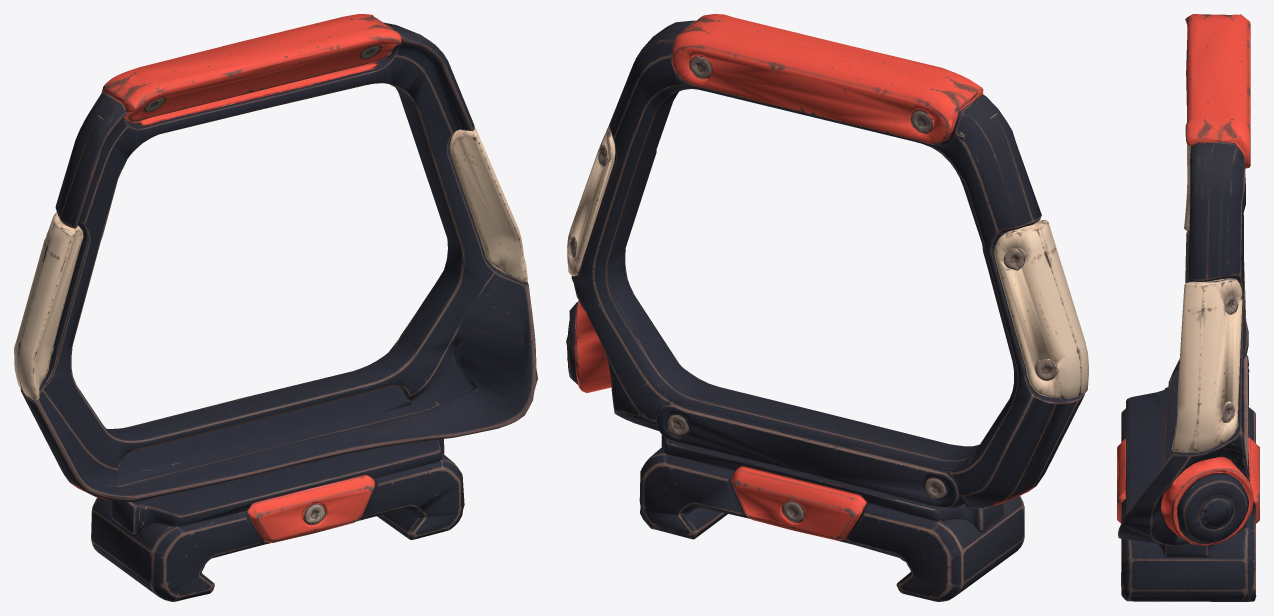
Rendered from sight.glb.
3 views of the same model, side by side, from view 1: azimuth 30°, elevation 25°; view 2: azimuth 150°, elevation 25°; view 3: azimuth 270°, elevation 25° (orthographic). The views are drawn at different scales.
Size of the model in its own units: 0.9531 by 0.8857 by 0.2456.
1 material, 1 textured.
